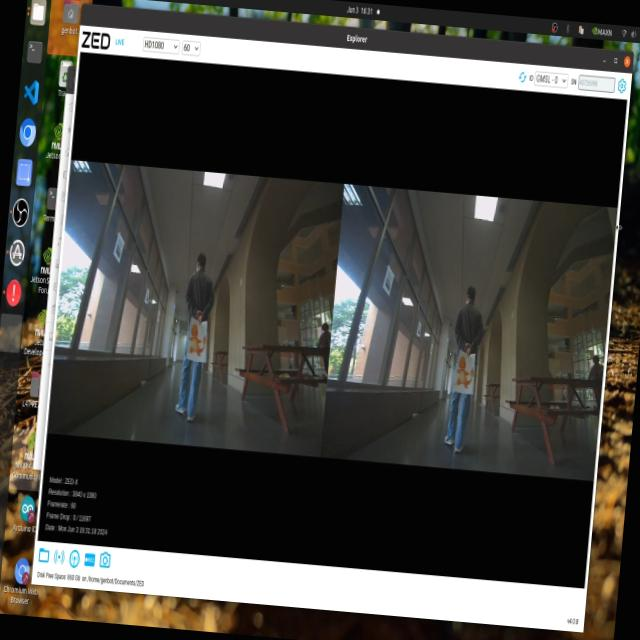red: (184, 312, 214, 364), (450, 347, 478, 395)
